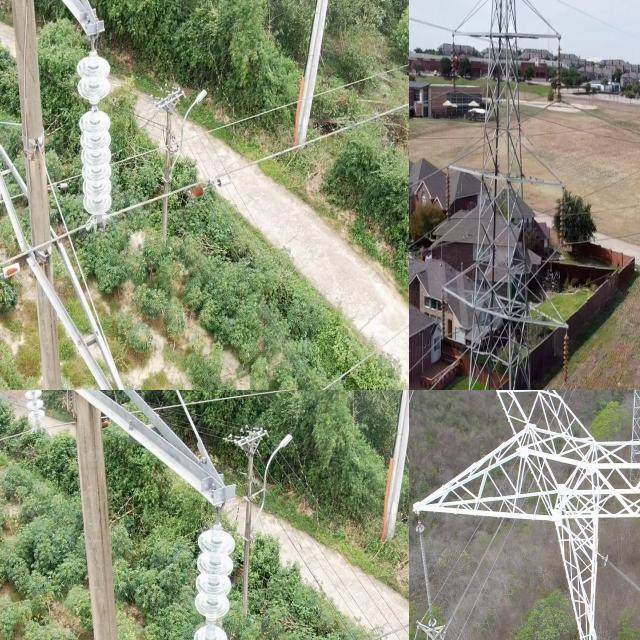杆塔: (0, 0, 157, 390), (409, 390, 640, 640), (438, 0, 573, 390)
正常电缆: (194, 390, 409, 414)
正常绝缘子: (67, 36, 124, 230), (187, 512, 235, 640), (409, 530, 441, 631), (9, 390, 53, 444), (602, 554, 640, 599), (554, 179, 571, 256), (446, 26, 461, 104), (556, 321, 572, 390), (552, 33, 566, 111), (438, 287, 451, 356), (442, 161, 454, 228)
绝缘子破损: (204, 618, 217, 632), (88, 101, 101, 112)
